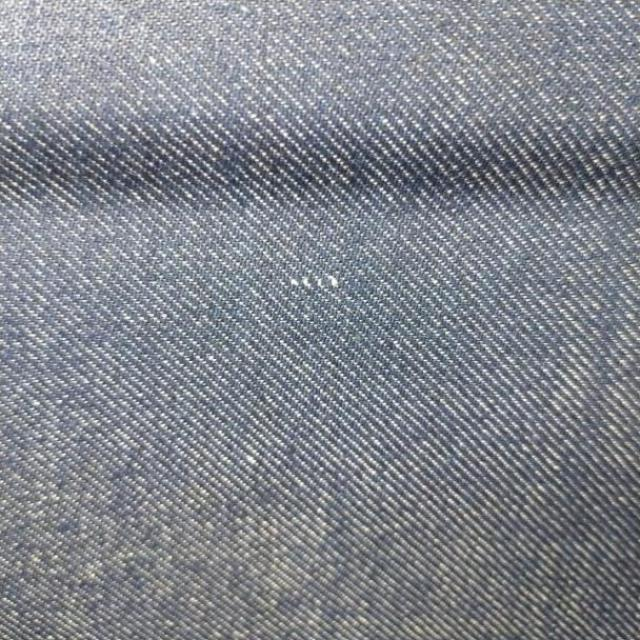Knot: (289, 272, 341, 289)
